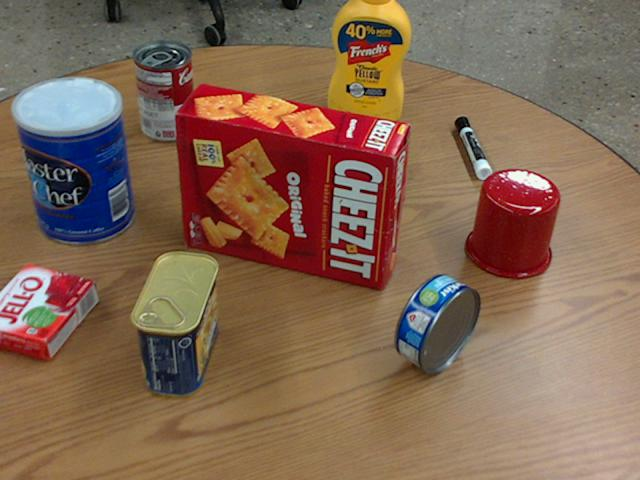cracker_box: (176, 84, 409, 289)
gelatin_box: (0, 263, 95, 358)
large_marker: (456, 116, 492, 179)
master_chef_can: (12, 77, 133, 244)
mug: (465, 168, 559, 277)
mustard_bottle: (329, 0, 411, 121)
potted_meat_can: (128, 249, 216, 395)
sugar_box: (233, 99, 398, 195)
tomato_soup_can: (133, 40, 195, 140)
tuna_fish_can: (395, 273, 479, 372)
